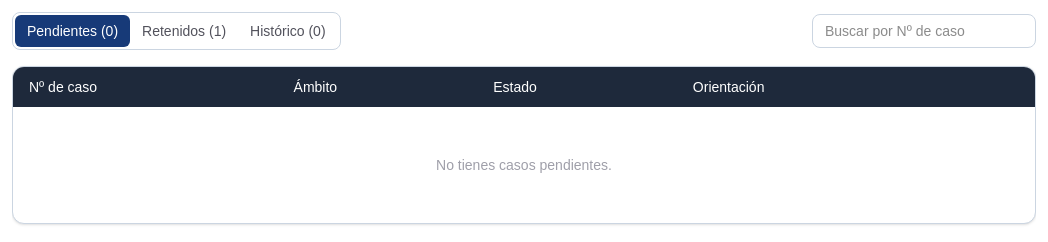
Test: Bandeja · las tres pestañas cubren todo lo asignado › el chip de un retenido dice Retenido, y no el estado de su informe
Expected: the button "Pendientes (0)" is shown, top-left (15, 15), bottom-right (130, 47)
Click the button "Retenidos (1)" at [184, 31], box top-left (130, 15), bottom-right (238, 47)
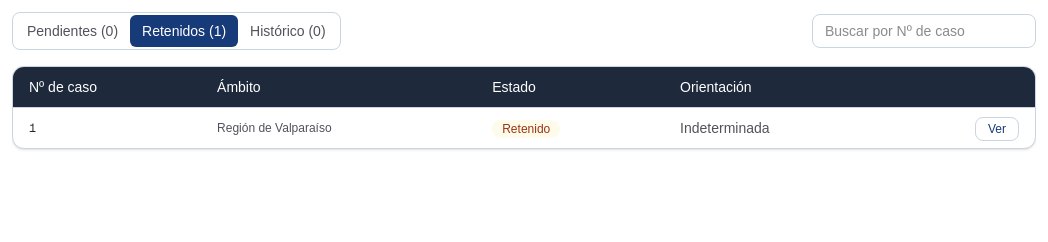
Expected: the text "Retenido" is shown, top-left (492, 120), bottom-right (560, 138)
